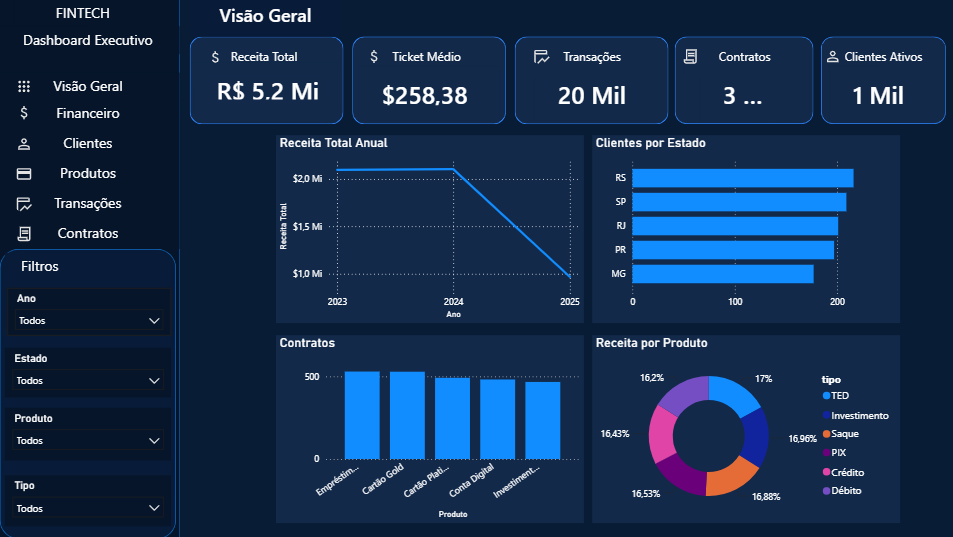

This screenshot's page, from the dashboard's own definition file:
{"tool":"powerbi","page":{"name":"Página 2","canvas":[1280,720],"ordinal":1},"visuals":[{"type":"shape","box":[475,50,205,117],"z":0},{"type":"textbox","box":[307,60,101.7,43.3],"z":0,"group":"g1"},{"type":"shape","box":[0,0,245,720],"z":1000},{"type":"image","box":[278.3,66.7,28.3,23.3],"z":1000,"group":"g1"},{"type":"textbox","box":[523.3,60,101.7,36.7],"z":2000},{"type":"cardVisual","fields":{"Data":["fato_transacoes.Receita Total"]},"box":[263.3,85,197,68.3],"z":2000,"group":"g1"},{"type":"shape","box":[5,333.3,235,386.7],"z":3000},{"type":"image","box":[490,65,28.3,23.3],"z":4000},{"type":"lineChart","title":"Receita Total Anual","fields":{"Category":["dim_data.data.Variation.Hierarquia de datas.Ano","dim_data.data.Variation.Hierarquia de datas.Trimestre","dim_data.data.Variation.Hierarquia de datas.Mês","dim_data.data.Variation.Hierarquia de datas.Dia"],"Y":["fato_transacoes.Receita Total"]},"box":[373.3,181.7,410,250],"z":5000},{"type":"cardVisual","fields":{"Data":["fato_transacoes.Ticket Médio"]},"box":[483.3,90,188.3,71.7],"z":6000},{"type":"barChart","title":"Clientes por Estado","fields":{"Category":["dim_cliente.estado"],"Y":["dim_cliente.Clientes"]},"box":[795,181.7,410,250],"z":7000},{"type":"columnChart","title":"Contratos","fields":{"Category":["dim_produto.nome_produto"],"Y":["fato_contratos.Contratos"]},"box":[373.3,448.3,410,250],"z":8000},{"type":"donutChart","title":"Receita por Produto","fields":{"Category":["fato_transacoes.tipo"],"Y":["fato_transacoes.Receita Total"]},"box":[795,448.3,410,250],"z":9000},{"type":"textbox","box":[23.3,0,185,36.7],"z":12000},{"type":"textbox","box":[0,36.7,245,36.7],"z":13000},{"type":"textbox","box":[0,98.3,245,35],"z":14000},{"type":"textbox","box":[0,133.3,245,40],"z":15000},{"type":"textbox","box":[0,173.3,245,40],"z":16000},{"type":"textbox","box":[0,213.3,245,40],"z":17000},{"type":"textbox","box":[0,253.3,245,40],"z":18000},{"type":"textbox","box":[0,293.3,245,40],"z":19000},{"type":"image","box":[23.3,105,28.3,23.3],"z":20000},{"type":"image","box":[23.3,140,28.3,23.3],"z":21000},{"type":"image","box":[23.3,181.7,28.3,23.3],"z":22000},{"type":"image","box":[23.3,221.7,28.3,23.3],"z":23000},{"type":"image","box":[23.3,261.7,28.3,23.3],"z":24000},{"type":"image","box":[23.3,301.7,28.3,23.3],"z":25000},{"type":"slicer","fields":{"Values":["dim_data.ano"]},"box":[15,385,218.3,63.3],"z":26000},{"type":"slicer","fields":{"Values":["dim_cliente.estado"]},"box":[11.7,465,221.7,66.7],"z":27000},{"type":"slicer","fields":{"Values":["dim_produto.nome_produto"]},"box":[11.7,545,221.7,70],"z":28000},{"type":"slicer","fields":{"Values":["fato_transacoes.tipo"]},"box":[11.7,635,221.7,68.3],"z":29000},{"type":"textbox","box":[11.7,338.3,93.3,43.3],"z":30000},{"type":"shape","box":[258.3,50,205,117],"z":31000},{"type":"group","id":"g1","title":"Grupo 1","box":[263.3,60,197,93.3],"z":32000},{"type":"shape","box":[691.7,50,205,117],"z":33000},{"type":"cardVisual","fields":{"Data":["fato_transacoes.Quantidade de Transações"]},"box":[718.3,90,151.7,71.7],"z":34000},{"type":"textbox","box":[713.3,60,163.3,43.3],"z":35000},{"type":"image","box":[713.3,65,28.3,23.3],"z":36000},{"type":"shape","box":[905,50,185,116.7],"z":37000},{"type":"cardVisual","fields":{"Data":["fato_contratos.Contratos"]},"box":[938.3,90,120,71.7],"z":38000},{"type":"textbox","box":[916.7,60,163.3,43.3],"z":39000},{"type":"image","box":[911.7,65,28.3,23.3],"z":39001},{"type":"shape","box":[1100,50,166.7,116.7],"z":39002},{"type":"textbox","box":[1101.7,60,163.3,43.3],"z":39003},{"type":"image","box":[1101.7,65,28.3,23.3],"z":39004},{"type":"cardVisual","fields":{"Data":["fato_transacoes.Clientes ativos"]},"box":[1111.7,90,143.3,71.7],"z":39005},{"type":"textbox","box":[258.3,0,201.7,50],"z":39006}]}

Visuals, with their boxes on the page's 1280x720 design canvas (x1, y1, x2, y2). These are canvas units, not pixel positions in the 953x537 screenshot, which may show the page scaled, cropped or inside an application window:
shape: 475 50 680 167
textbox: 307 60 409 103
shape: 0 0 245 720
image: 278 67 307 90
textbox: 523 60 625 97
cardVisual - fato_transacoes.Receita Total: 263 85 460 153
shape: 5 333 240 720
image: 490 65 518 88
"Receita Total Anual" lineChart: 373 182 783 432
cardVisual - fato_transacoes.Ticket Médio: 483 90 672 162
"Clientes por Estado" barChart: 795 182 1205 432
"Contratos" columnChart: 373 448 783 698
"Receita por Produto" donutChart: 795 448 1205 698
textbox: 23 0 208 37
textbox: 0 37 245 73
textbox: 0 98 245 133
textbox: 0 133 245 173
textbox: 0 173 245 213
textbox: 0 213 245 253
textbox: 0 253 245 293
textbox: 0 293 245 333
image: 23 105 52 128
image: 23 140 52 163
image: 23 182 52 205
image: 23 222 52 245
image: 23 262 52 285
image: 23 302 52 325
slicer - dim_data.ano: 15 385 233 448
slicer - dim_cliente.estado: 12 465 233 532
slicer - dim_produto.nome_produto: 12 545 233 615
slicer - fato_transacoes.tipo: 12 635 233 703
textbox: 12 338 105 382
shape: 258 50 463 167
"Grupo 1" group: 263 60 460 153
shape: 692 50 897 167
cardVisual - fato_transacoes.Quantidade de Transações: 718 90 870 162
textbox: 713 60 877 103
image: 713 65 742 88
shape: 905 50 1090 167
cardVisual - fato_contratos.Contratos: 938 90 1058 162
textbox: 917 60 1080 103
image: 912 65 940 88
shape: 1100 50 1267 167
textbox: 1102 60 1265 103
image: 1102 65 1130 88
cardVisual - fato_transacoes.Clientes ativos: 1112 90 1255 162
textbox: 258 0 460 50
